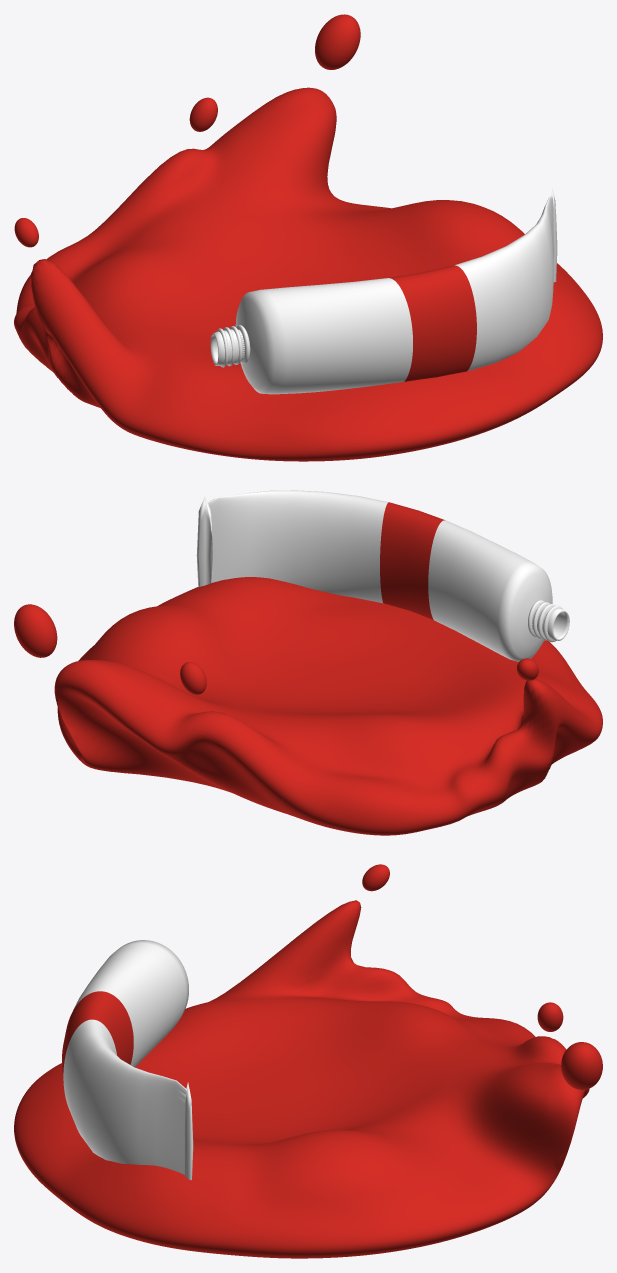
File: paint_dan.fbx
The picture shows the model from 3 angles, top to bottom: view 1: azimuth 30°, elevation 25°; view 2: azimuth 150°, elevation 25°; view 3: azimuth 270°, elevation 25°; orthographic projection. The views are drawn at different scales.
Visible parts, largest first — view 1: ink, Enogu; view 2: ink, Enogu; view 3: ink, Enogu.
Boxes of the visible parts, x1=… form: ink: x1=14, y1=14, x2=602, y2=461; Enogu: x1=210, y1=188, x2=557, y2=394; ink: x1=14, y1=577, x2=602, y2=835; Enogu: x1=196, y1=490, x2=569, y2=661; ink: x1=14, y1=864, x2=602, y2=1258; Enogu: x1=62, y1=940, x2=193, y2=1180.
Size of the model in its own units: 202 by 82.68 by 204.
